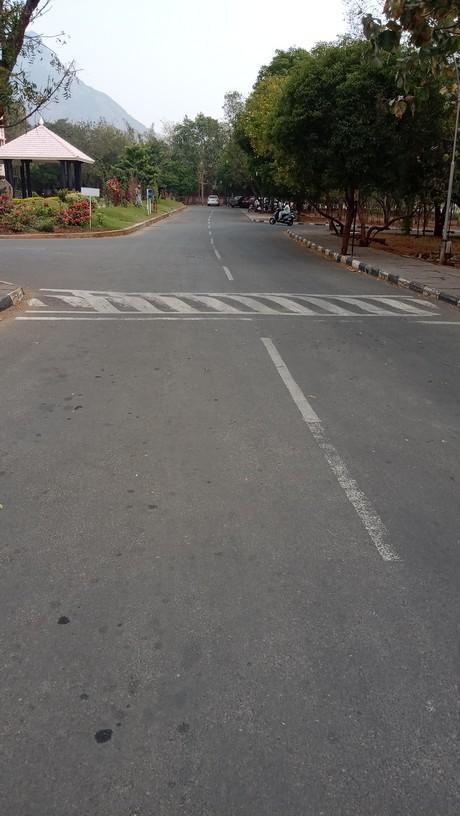speedbreaker: (10, 286, 459, 322)
